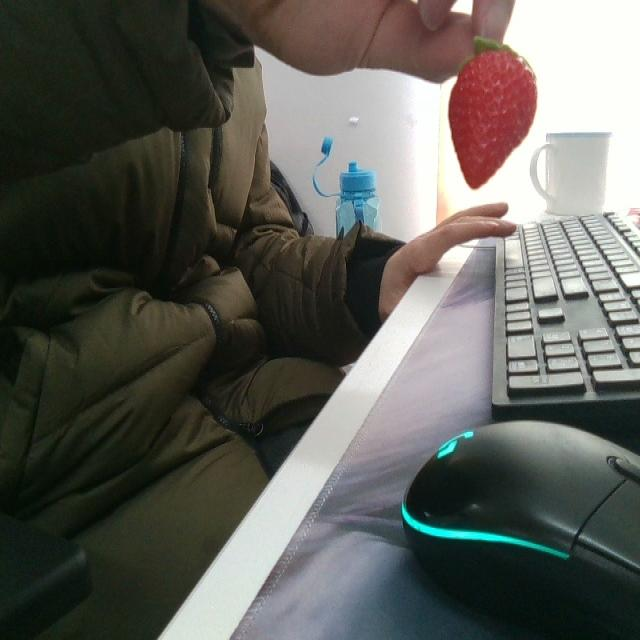mature: (449, 47, 537, 188)
